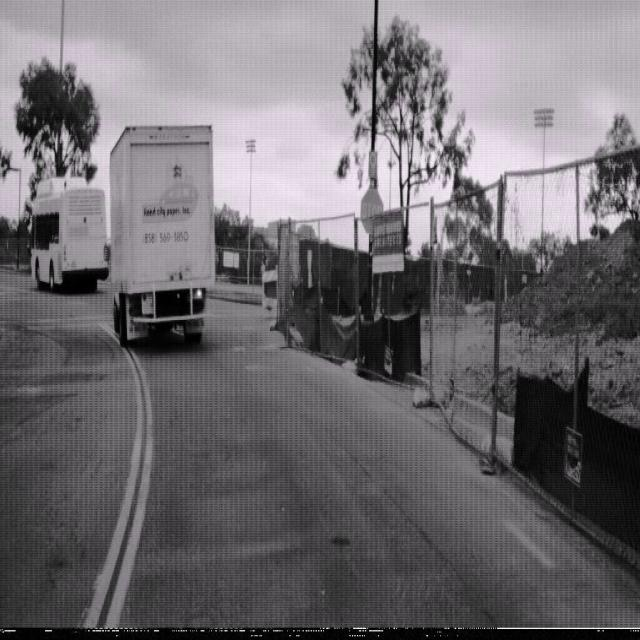stop_sign: (360, 187, 384, 236)
